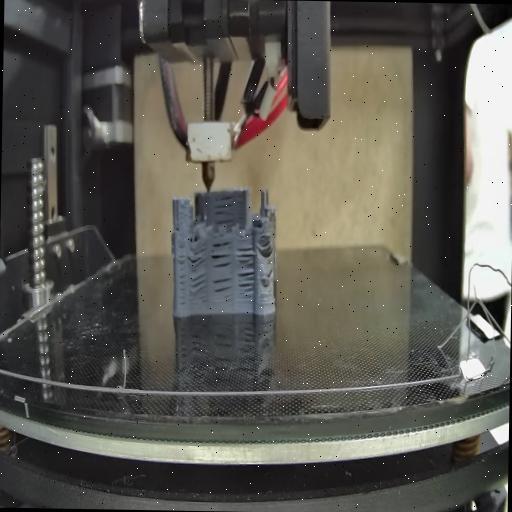cracks: (214, 194, 238, 228), (212, 236, 234, 266), (213, 276, 235, 304), (237, 268, 256, 300), (178, 252, 188, 307), (235, 244, 256, 264), (190, 273, 206, 296), (188, 246, 206, 266), (262, 236, 272, 259), (264, 267, 274, 282), (174, 218, 182, 232)
